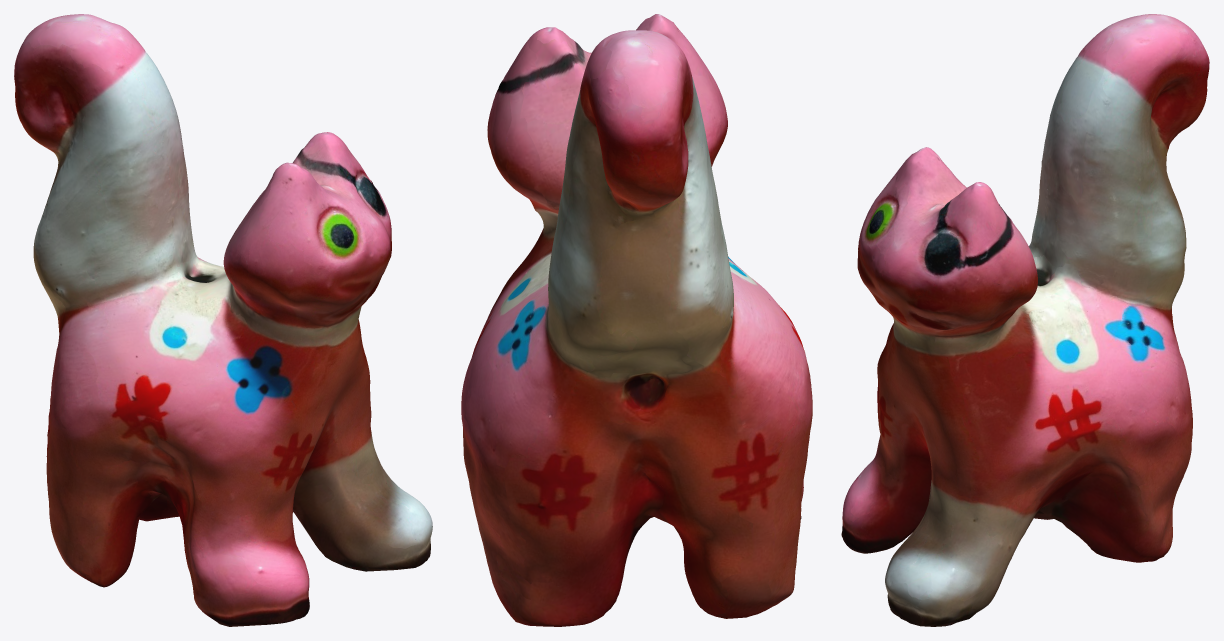
The model's file is asset.glb.
3 views of the same model, side by side, from view 1: azimuth 30°, elevation 25°; view 2: azimuth 150°, elevation 25°; view 3: azimuth 270°, elevation 25° (orthographic). The views are drawn at different scales.
Visible parts, largest first — view 1: Mesh_0; view 2: Mesh_0; view 3: Mesh_0.
Part boxes in pixels (left/top/right/bottom): Mesh_0: left=14, top=14, right=432, bottom=626; Mesh_0: left=461, top=14, right=812, bottom=626; Mesh_0: left=841, top=14, right=1209, bottom=626.
Bounding box in the file's own units: 1.72 × 2.67 × 1.76.
1 material, 1 textured.
